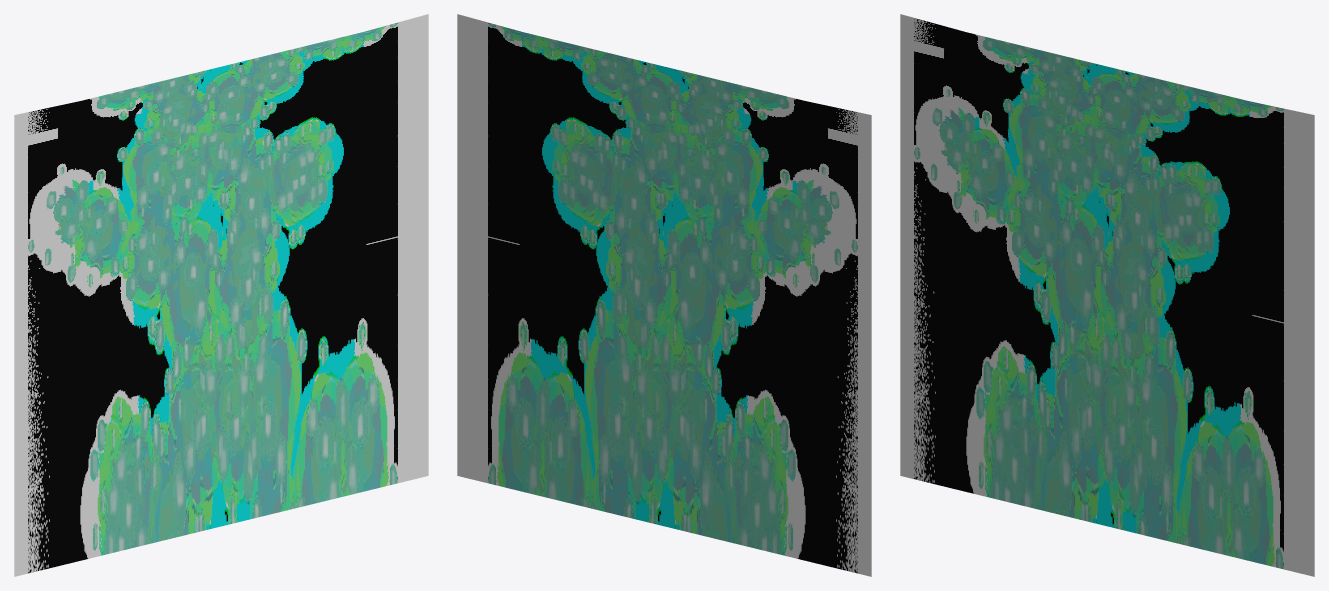
File: Bubbles Current.FBX
3 renders of one model, left to right at view 1: azimuth 30°, elevation 25°; view 2: azimuth 150°, elevation 25°; view 3: azimuth 330°, elevation 25°, orthographic.
Visible parts, largest first — view 1: Bubbles Current; view 2: Bubbles Current; view 3: Bubbles Current.
Part boxes in pixels (left/top/right/bottom): Bubbles Current: left=14, top=14, right=428, bottom=576; Bubbles Current: left=457, top=14, right=871, bottom=576; Bubbles Current: left=900, top=14, right=1314, bottom=576.
Bounding box in the file's own units: 195 × 3.72e-06 × 208.
